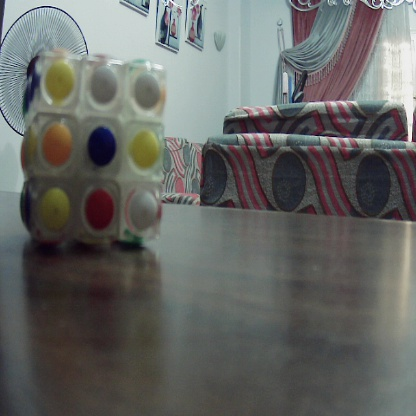Rubix Cube: (25, 54, 162, 245)
